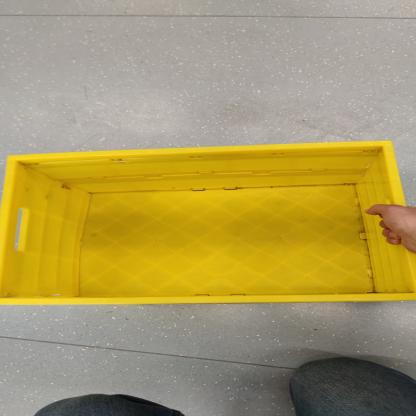box: (0, 141, 416, 313)
